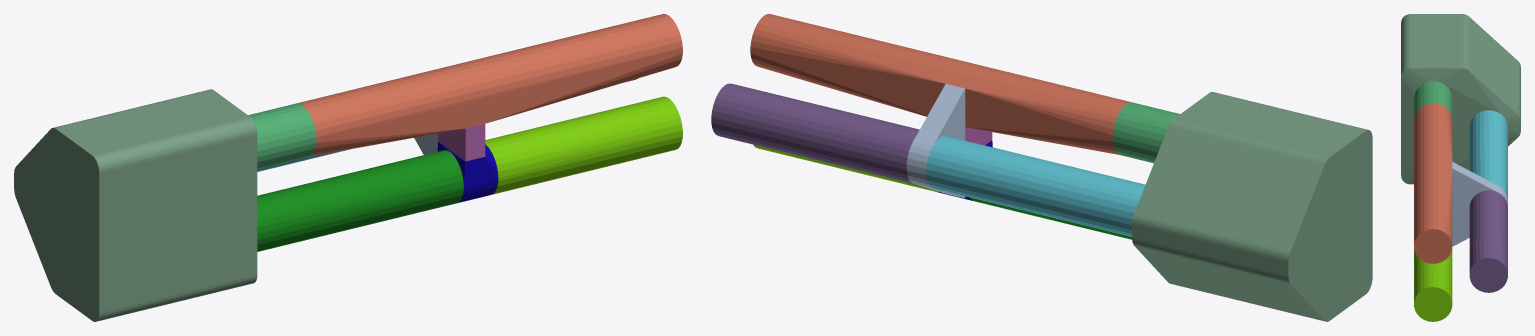
File: peg_31_canonical.obj
3 views of the same model, side by side, from view 1: azimuth 30°, elevation 25°; view 2: azimuth 150°, elevation 25°; view 3: azimuth 270°, elevation 25° (orthographic). The views are drawn at different scales.
Parts seen in each view (by area): view 1: geometry_0, geometry_9, geometry_8, geometry_4, geometry_3, geometry_5, geometry_7; view 2: geometry_0, geometry_9, geometry_2, geometry_1, geometry_6, geometry_3, geometry_4, geometry_8; view 3: geometry_0, geometry_9, geometry_1, geometry_2, geometry_4, geometry_6, geometry_3.
Boxes of the visible parts, <box> form: geometry_0: <box>14,89,257,321</box>; geometry_9: <box>297,14,682,156</box>; geometry_8: <box>257,150,463,251</box>; geometry_4: <box>485,96,682,194</box>; geometry_3: <box>248,103,316,169</box>; geometry_5: <box>437,142,498,203</box>; geometry_7: <box>438,124,485,161</box>; geometry_0: <box>1132,92,1372,321</box>; geometry_9: <box>750,14,1130,154</box>; geometry_2: <box>926,136,1145,236</box>; geometry_1: <box>711,83,919,183</box>; geometry_6: <box>906,84,965,198</box>; geometry_3: <box>1112,102,1179,163</box>; geometry_4: <box>753,144,938,192</box>; geometry_8: <box>970,197,1132,239</box>; geometry_0: <box>1401,14,1520,184</box>; geometry_9: <box>1414,103,1452,263</box>; geometry_1: <box>1469,190,1507,292</box>; geometry_2: <box>1469,110,1507,198</box>; geometry_4: <box>1414,249,1452,321</box>; geometry_6: <box>1452,162,1507,246</box>; geometry_3: <box>1414,81,1452,117</box>.
Size of the model in its own units: 0.15 by 0.04 by 0.0373.
